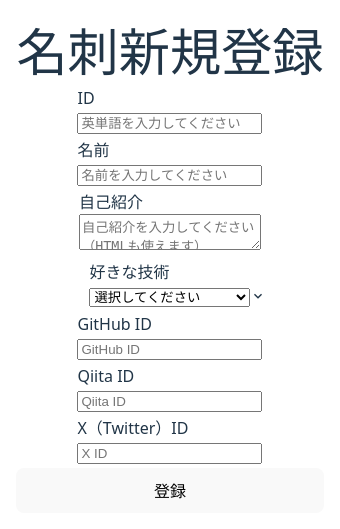
Test: RegisterPage › IDがないときにエラーメッセージがでる
Type "テスト" into the field with placeholder "名前を入力してください".
click(170, 175); type("テスト")  # box 78,165 -> 262,186
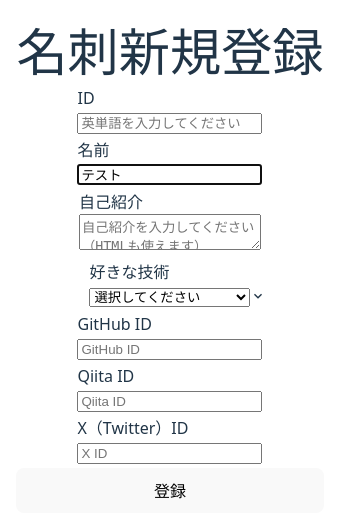
Type "紹介" into the text box with placeholder "自己紹介を入力してください（HTMLも使えます）".
click(170, 232); type("紹介")  # box 79,214 -> 261,250
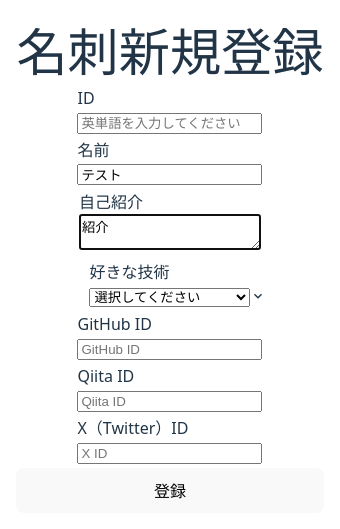
Click the button "登録".
click(170, 490)  # box 16,468 -> 324,513
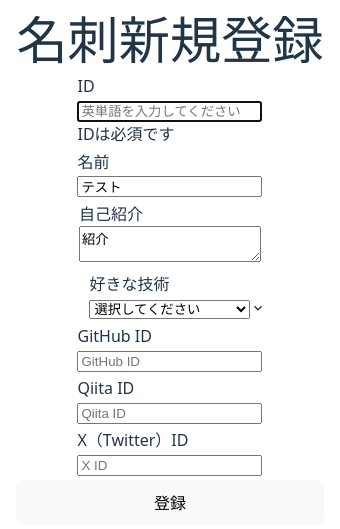
Check: the text "IDは必須です" is shown, box 78,123 -> 175,145
